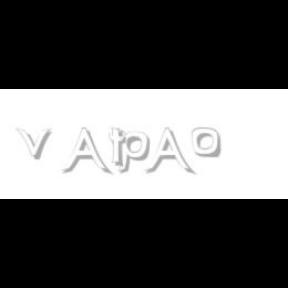A: (61, 128, 109, 176), (144, 128, 192, 176)
o: (192, 128, 220, 158)
p: (116, 128, 154, 174)
t: (109, 128, 131, 168)
v: (15, 128, 55, 160)
